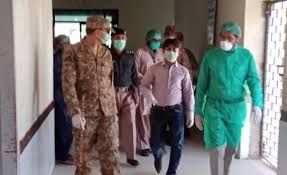uniform: (65, 14, 122, 169), (165, 20, 203, 119)
